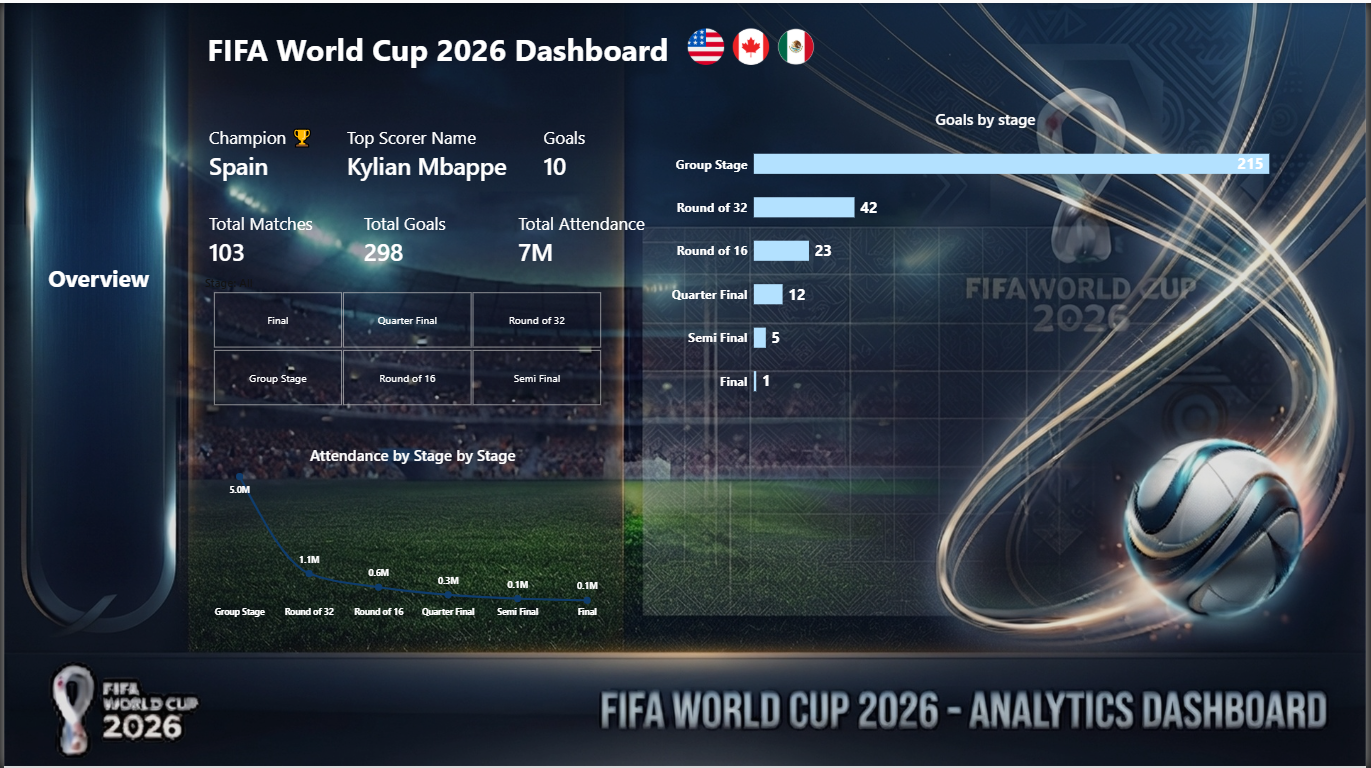

What the dashboard file says about the page in this screenshot:
{"tool":"powerbi","page":{"name":"Overview","canvas":[1920,1080],"ordinal":0},"visuals":[{"type":"textbox","box":[274.3,35.2,759.6,82.1],"z":0},{"type":"cardVisual","fields":{"Data":["Dax.Champion"]},"box":[276.6,159.4,178.2,107.8],"z":1000},{"type":"cardVisual","fields":{"Data":["Dax.Top Scorer Name"]},"box":[471.2,159.4,389.2,107.8],"z":2000},{"type":"cardVisual","fields":{"Data":["Dax.Top Scorer Goals"]},"box":[747.9,159.4,91.4,107.8],"z":3000},{"type":"cardVisual","fields":{"Data":["Dax.Total Matches","Dax.Total Goals","Dax.Total Attendance"]},"box":[276.6,283.7,647.1,98.5],"z":4000},{"type":"image","box":[958.9,35.2,63.3,51.6],"z":5000},{"type":"slicer","fields":{"Values":["4_Matches.Stage"]},"box":[274.9,382.8,585.8,186.1],"z":6000},{"type":"barChart","title":"Goals by stage","fields":{"Category":["4_Matches.Stage"],"Y":["Dax.Goals by Stage"]},"box":[923.7,136,919,454.8],"z":7000},{"type":"lineChart","fields":{"Category":["4_Matches.Stage"],"Y":["Dax.Attendance by Stage"]},"box":[274.3,609.6,602.5,279],"z":8000},{"type":"textbox","box":[56.3,365.7,152.4,70.3],"z":9000},{"type":"image","box":[1022.2,35.2,63.3,51.6],"z":10000},{"type":"image","box":[1085.5,35.2,63.3,51.6],"z":11000}]}

Visuals, with their boxes in screenshot pixels (x1, y1, x2, y2), scaled from the page's 1920x1080 canvas onto the 1371x768 screenshot:
textbox: box(196, 25, 738, 83)
cardVisual - Dax.Champion: box(198, 113, 325, 190)
cardVisual - Dax.Top Scorer Name: box(336, 113, 614, 190)
cardVisual - Dax.Top Scorer Goals: box(534, 113, 599, 190)
cardVisual - Dax.Total Matches x Dax.Total Goals: box(198, 202, 660, 272)
image: box(685, 25, 730, 62)
slicer - 4_Matches.Stage: box(196, 272, 615, 405)
"Goals by stage" barChart: box(660, 97, 1316, 420)
lineChart - 4_Matches.Stage x Dax.Attendance by Stage: box(196, 433, 626, 632)
textbox: box(40, 260, 149, 310)
image: box(730, 25, 775, 62)
image: box(775, 25, 820, 62)
